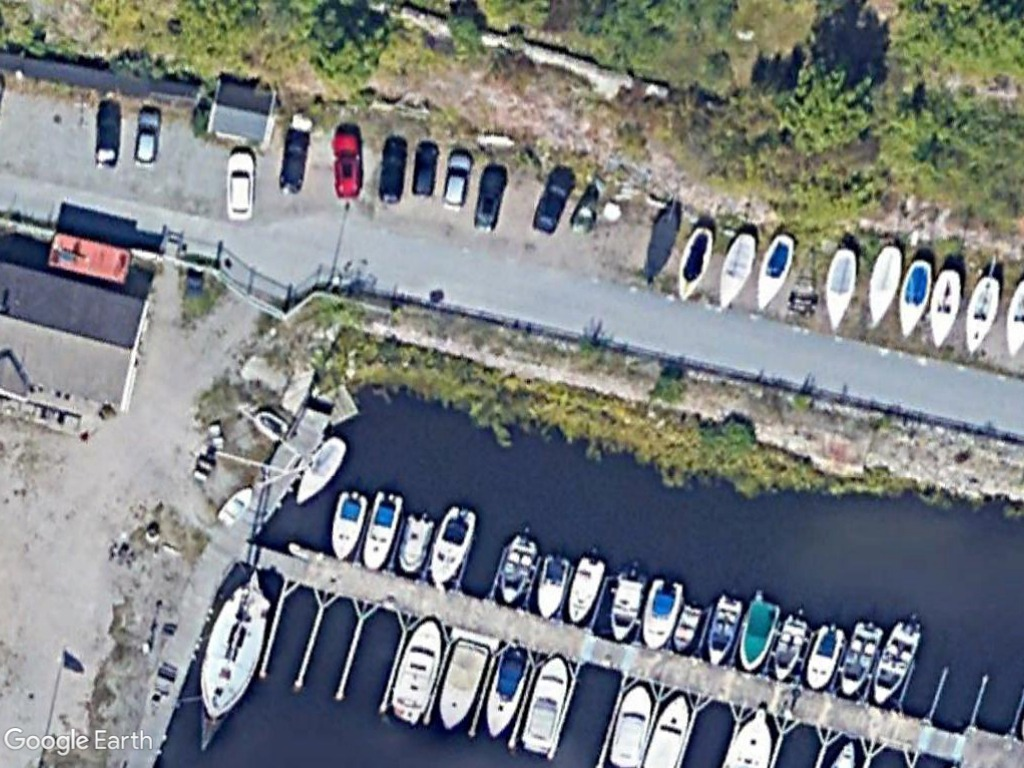boat: (192, 565, 275, 732), (382, 616, 448, 730), (476, 640, 540, 742), (431, 633, 494, 736), (517, 650, 575, 759), (866, 613, 926, 709), (424, 497, 483, 594), (831, 611, 892, 703), (289, 429, 355, 510), (747, 229, 803, 322), (857, 239, 909, 338), (705, 223, 760, 316), (357, 484, 411, 576), (633, 573, 692, 656), (603, 680, 658, 768), (889, 252, 939, 346), (958, 267, 1009, 359), (493, 525, 547, 610), (734, 591, 785, 679), (818, 243, 863, 341), (922, 262, 969, 355), (325, 482, 375, 567), (672, 219, 719, 309), (602, 565, 653, 647), (559, 550, 610, 631), (767, 607, 817, 689), (800, 618, 850, 697), (701, 590, 748, 669), (529, 547, 579, 621), (391, 508, 438, 586), (669, 596, 715, 657)
car: (527, 160, 579, 239), (220, 141, 265, 227), (325, 127, 371, 204), (433, 141, 479, 217), (468, 160, 513, 237), (273, 123, 314, 199), (129, 100, 170, 174), (374, 127, 413, 204), (86, 93, 124, 167), (408, 133, 447, 203)
